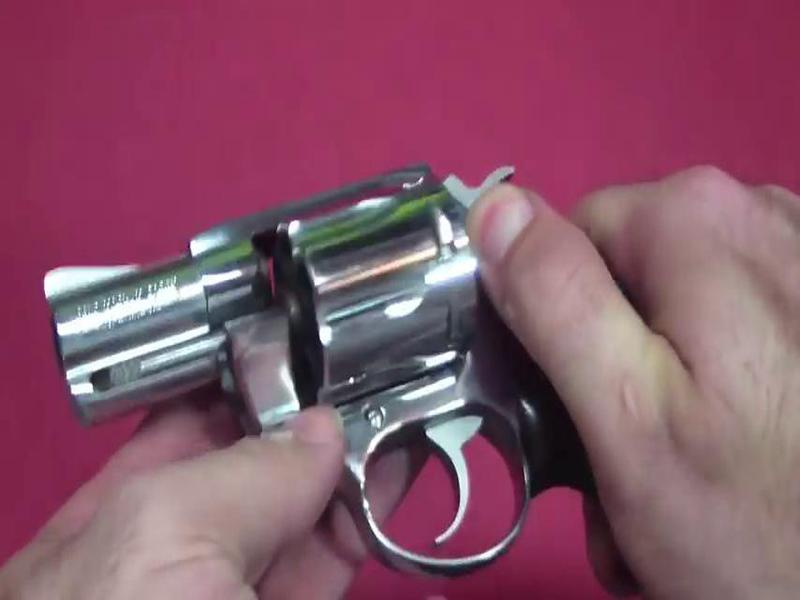Revolver: (27, 183, 615, 559)
